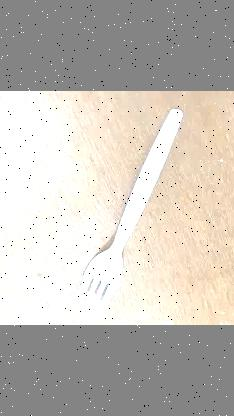Others: (75, 107, 184, 318)
